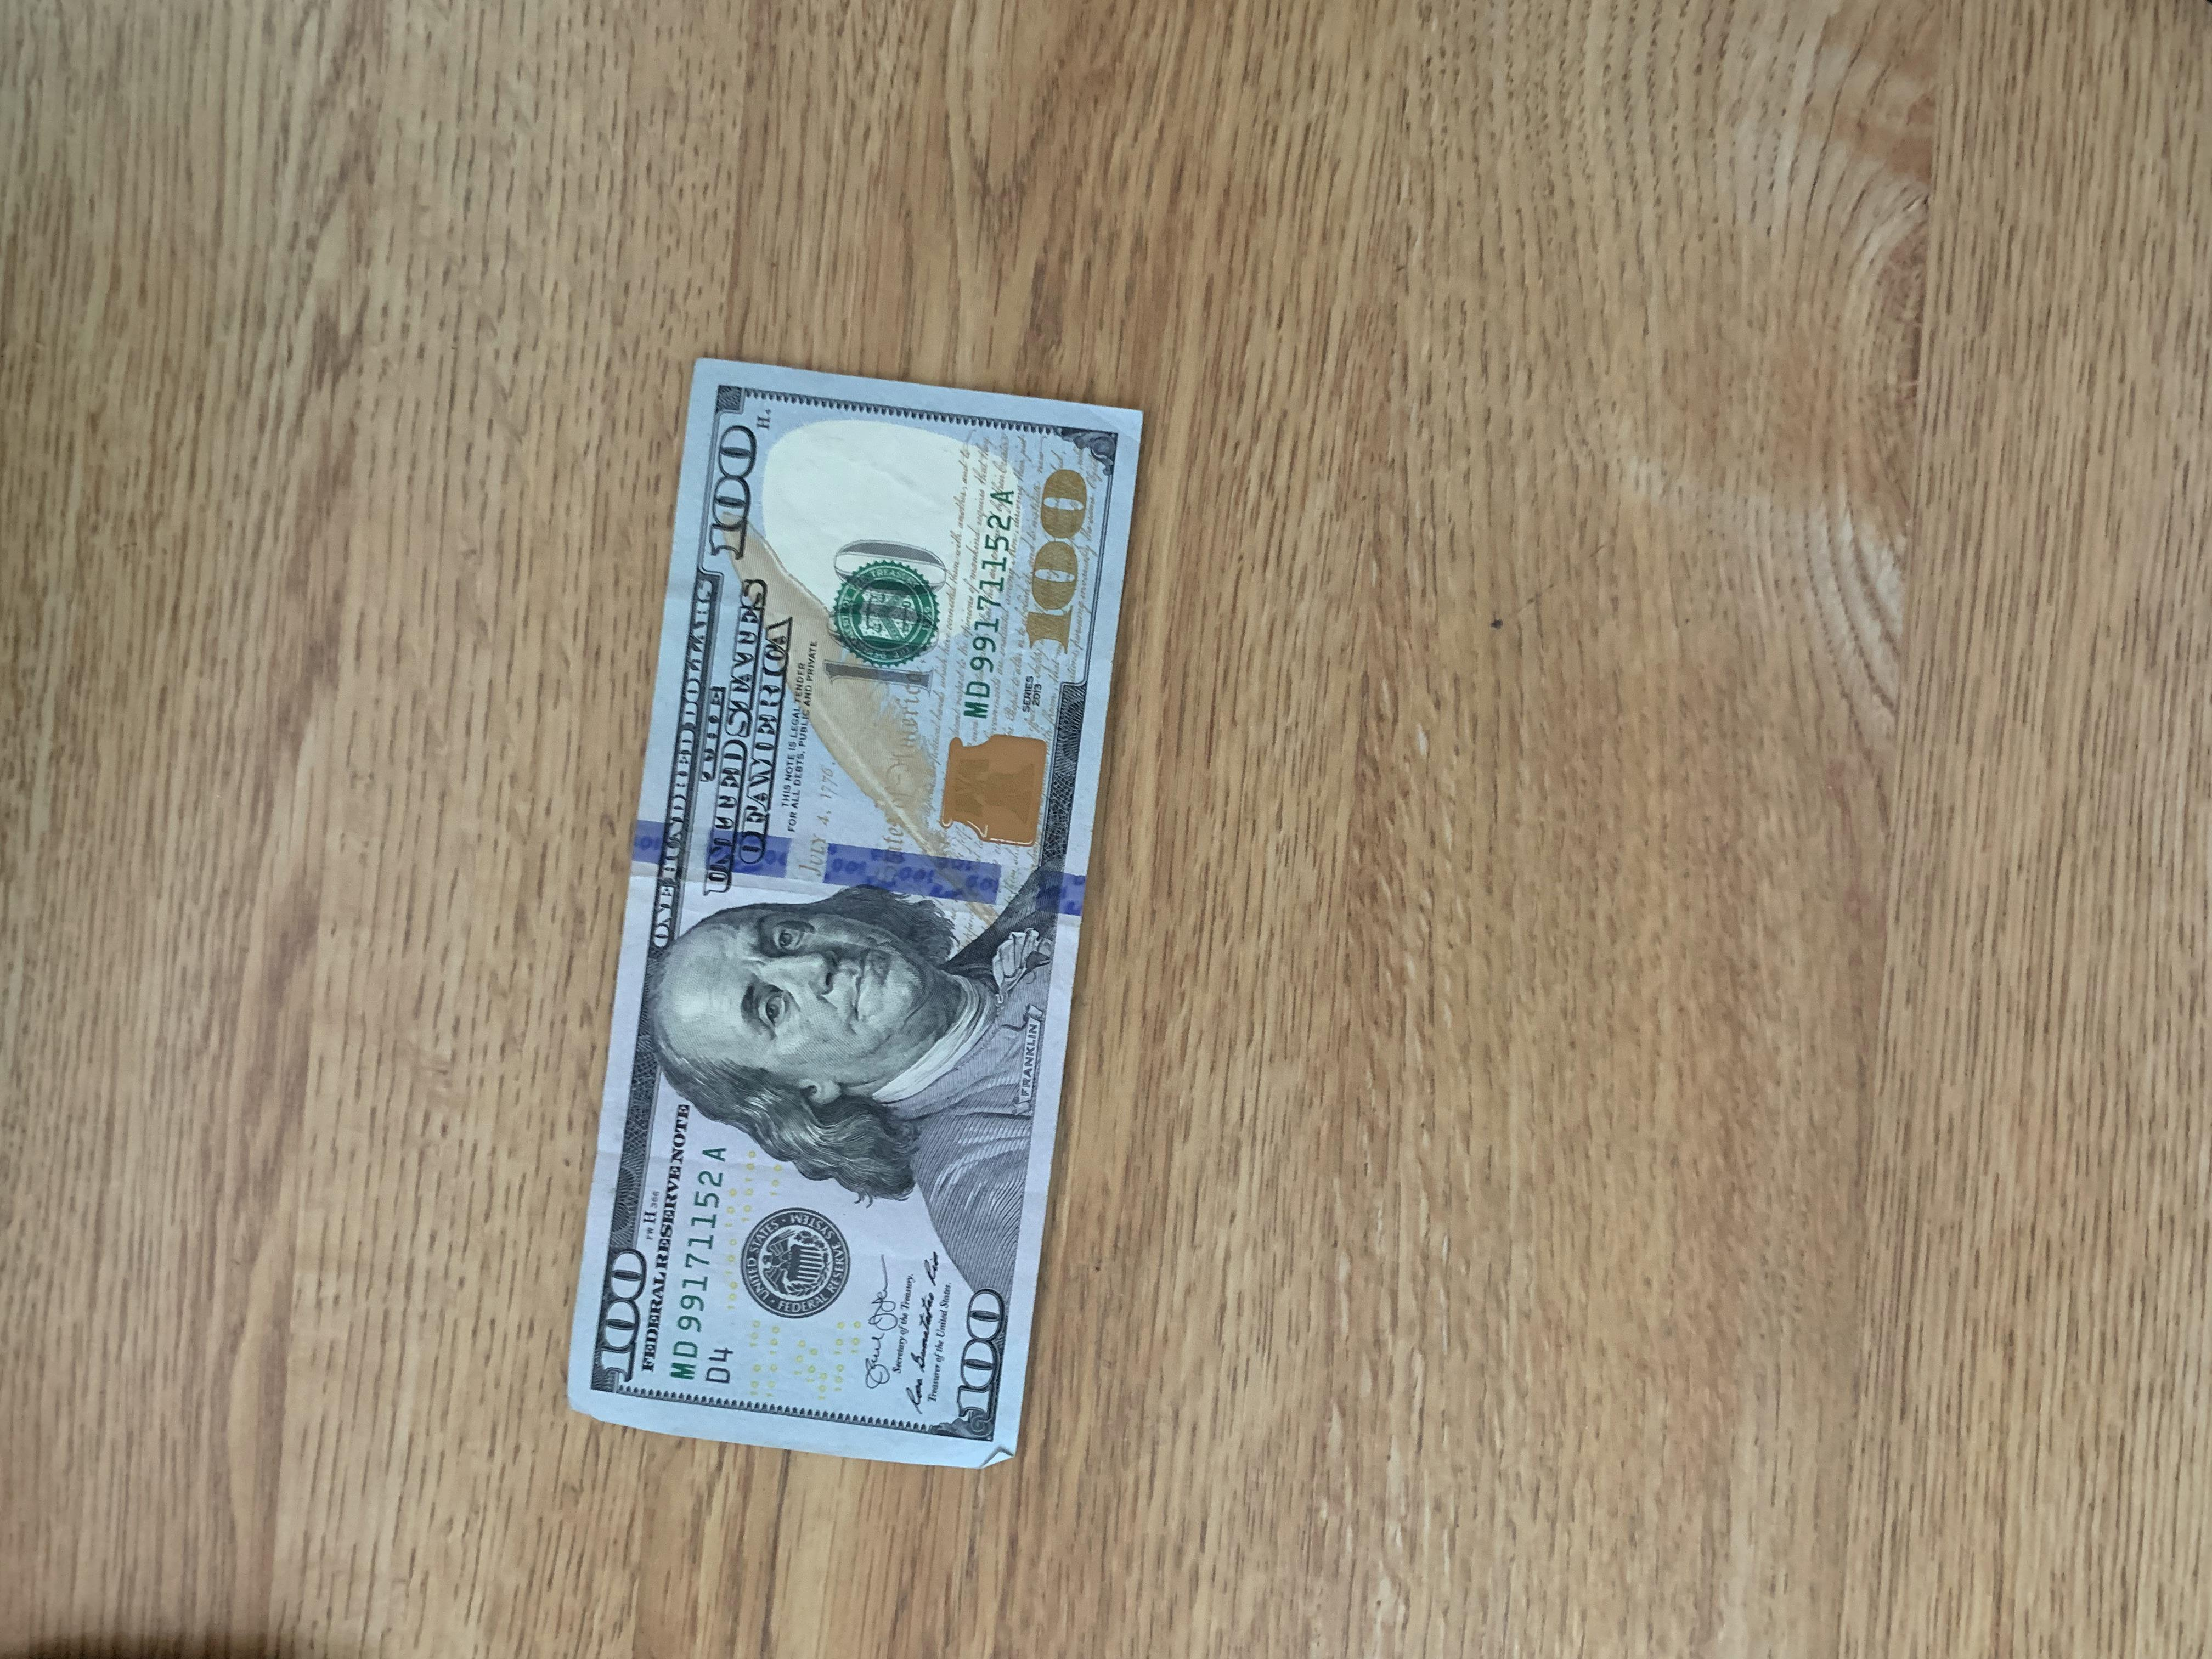HundredBill: (564, 347, 1155, 1467)
